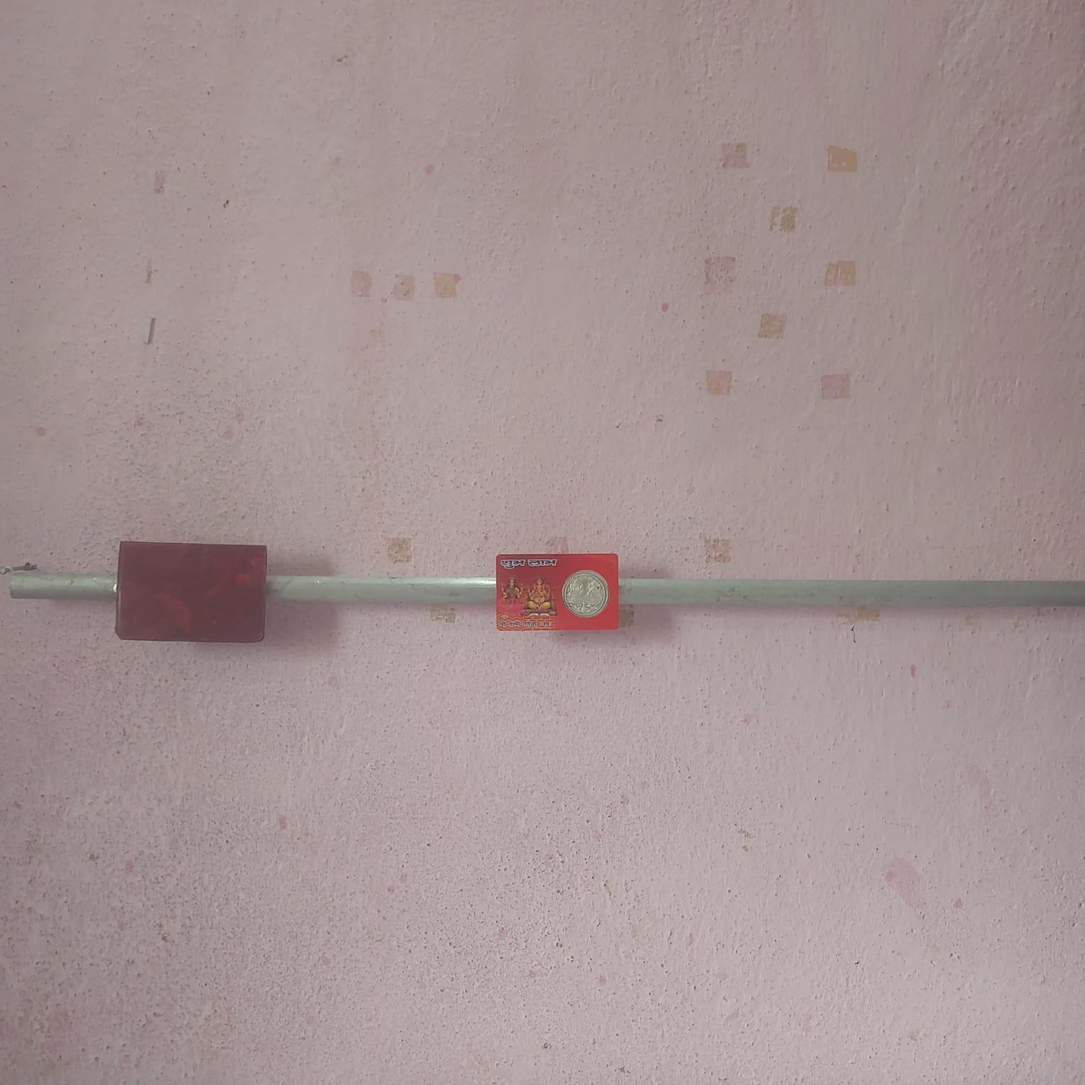blessing_card: (493, 552, 627, 630)
wallet: (114, 545, 272, 644)
